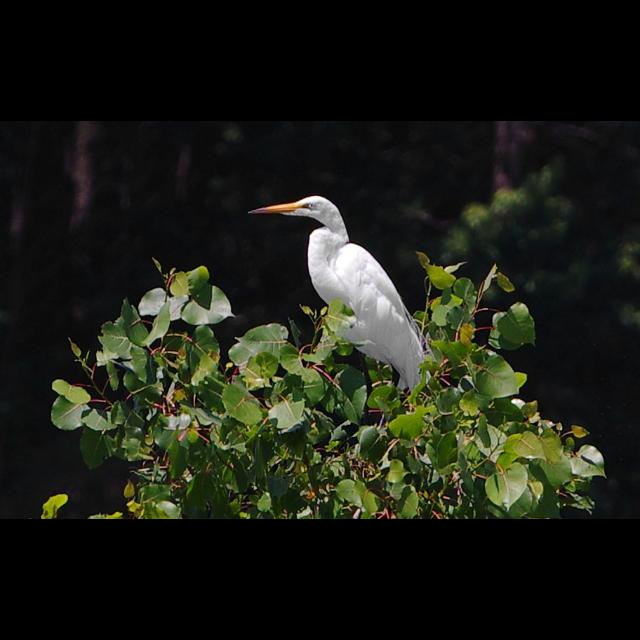egret: (242, 186, 433, 408)
